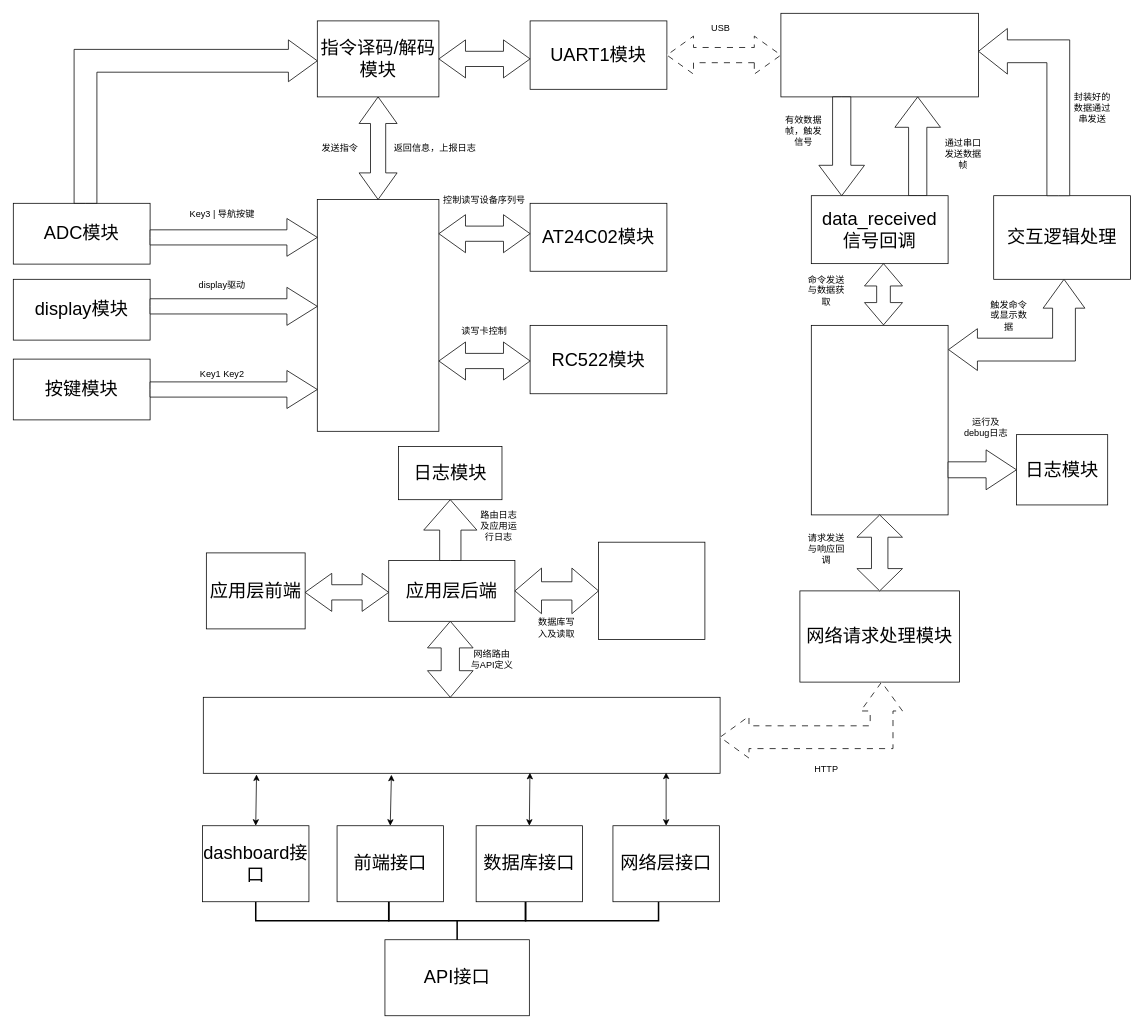
The diagram is 1144 pixels wide and 1029 high, and some of its shapes have lost their labels. The centre of each missing label's shape, as x and y in pixels:
"QMainwindow" belongs at pixel 879 420.
"serialThread模块" belongs at pixel 879 55.
"sys模块" belongs at pixel 378 315.
"提供传感器数据" belongs at pixel 195 121.
"数据库模块" belongs at pixel 651 590.
"路由模块" belongs at pixel 461 735.
